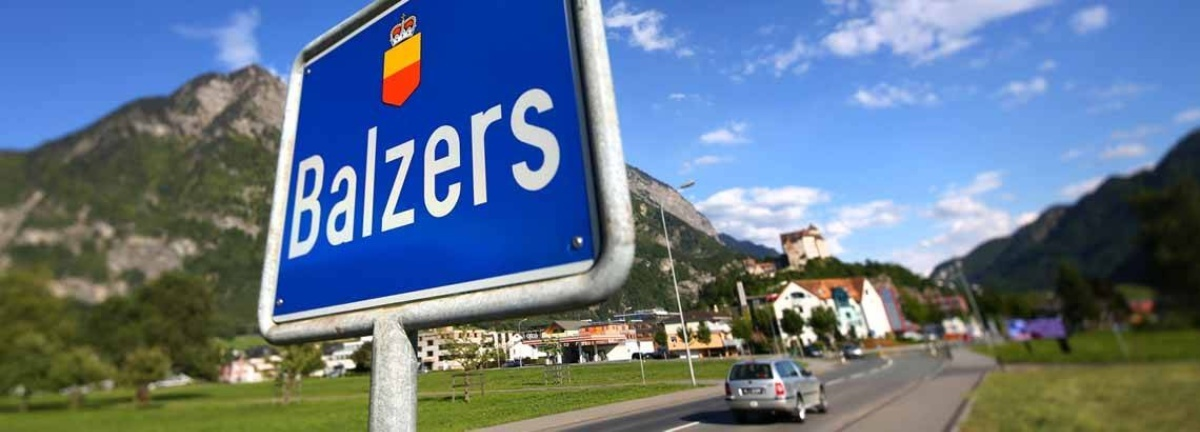text: (305, 71, 320, 263), (321, 71, 336, 263), (337, 71, 352, 263), (353, 71, 368, 263), (369, 71, 384, 263), (385, 71, 400, 263), (401, 71, 416, 263), (417, 71, 432, 263), (433, 71, 448, 263), (449, 71, 464, 263), (465, 71, 480, 263), (481, 71, 496, 263), (497, 71, 512, 263), (513, 71, 528, 263), (529, 71, 544, 263), (545, 71, 560, 263), (296, 71, 304, 263), (561, 71, 568, 263), (739, 387, 752, 396), (753, 387, 764, 396)
